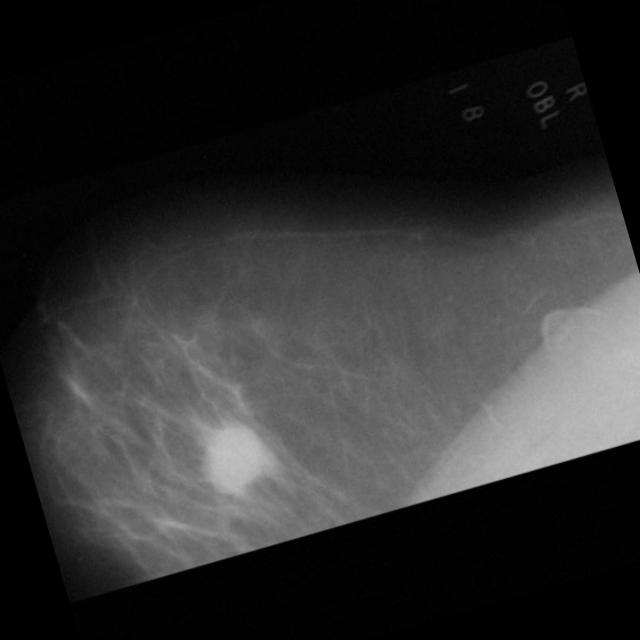CIRC: (188, 416, 274, 502)
